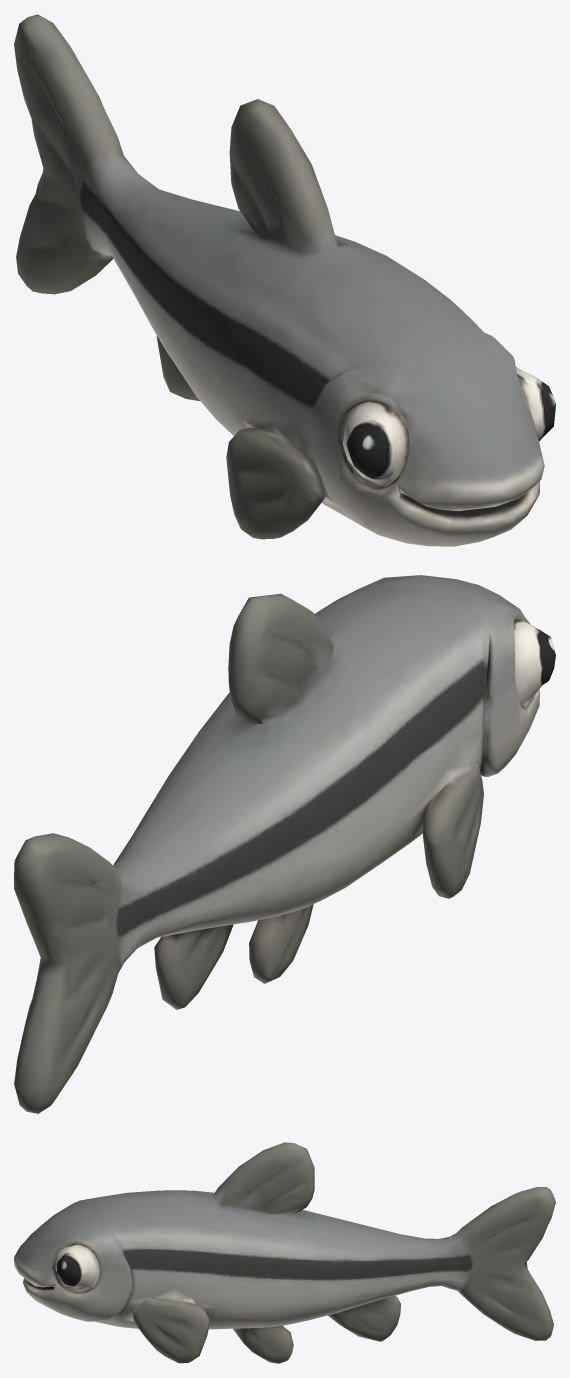
File: fish-minnow.glb
3 renders of one model, top to bottom at view 1: azimuth 30°, elevation 25°; view 2: azimuth 150°, elevation 25°; view 3: azimuth 270°, elevation 25°, orthographic. The views are drawn at different scales.
Parts seen in each view (by area): view 1: tripo_node_7619c39e-3803-4783-b481-77db4802dcbb; view 2: tripo_node_7619c39e-3803-4783-b481-77db4802dcbb; view 3: tripo_node_7619c39e-3803-4783-b481-77db4802dcbb.
Part boxes in pixels (left/top/right/bottom): tripo_node_7619c39e-3803-4783-b481-77db4802dcbb: left=14, top=14, right=555, bottom=546; tripo_node_7619c39e-3803-4783-b481-77db4802dcbb: left=14, top=575, right=555, bottom=1113; tripo_node_7619c39e-3803-4783-b481-77db4802dcbb: left=14, top=1142, right=555, bottom=1363.
Bounding box in the file's own units: 0.2683 × 0.4467 × 1.
Materials: 1 (1 with a texture image).
